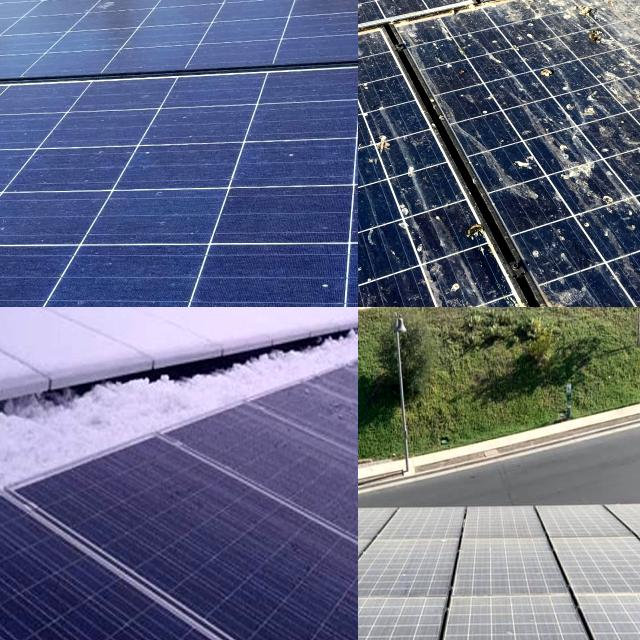bird: (548, 140, 635, 212), (358, 104, 396, 168), (532, 56, 566, 101), (358, 143, 383, 203), (465, 216, 487, 284), (561, 0, 610, 30), (587, 0, 640, 26), (482, 0, 536, 25), (358, 251, 378, 306), (572, 31, 630, 48), (358, 0, 375, 24), (358, 0, 377, 17)
dust: (76, 97, 220, 235), (244, 72, 346, 236), (0, 107, 90, 237), (82, 240, 190, 306), (215, 254, 343, 307), (358, 510, 532, 539), (459, 602, 566, 640), (472, 540, 556, 584), (378, 536, 444, 591), (0, 257, 47, 302), (568, 551, 640, 577), (561, 509, 640, 532), (358, 512, 379, 583), (358, 549, 377, 589)
panel: (0, 408, 166, 497), (54, 307, 189, 376), (202, 331, 358, 389), (210, 307, 352, 346), (0, 307, 49, 398), (83, 307, 198, 338), (0, 307, 70, 342)
